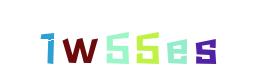1: (9, 0, 89, 80)
5: (89, 0, 169, 80), (101, 0, 181, 80)
E: (107, 0, 187, 80)
S: (153, 0, 233, 80)
W: (39, 0, 119, 80)
